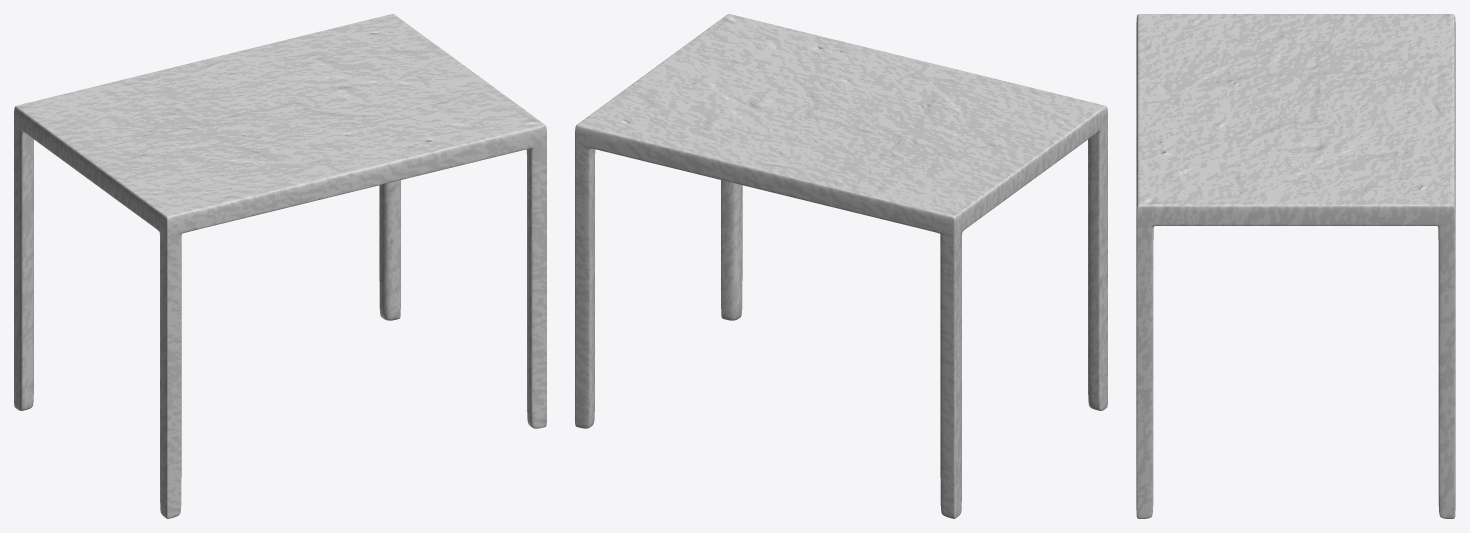
Rendered from wavyTable1.obj.
The picture shows the model from 3 angles, left to right: view 1: azimuth 30°, elevation 25°; view 2: azimuth 150°, elevation 25°; view 3: azimuth 270°, elevation 25°; orthographic projection. The views are drawn at different scales.
Parts seen in each view (by area): view 1: TableSubDivided_Cube.007; view 2: TableSubDivided_Cube.007; view 3: TableSubDivided_Cube.007.
Boxes of the visible parts, <box> form: TableSubDivided_Cube.007: <box>14,14,546,518</box>; TableSubDivided_Cube.007: <box>575,14,1107,518</box>; TableSubDivided_Cube.007: <box>1136,14,1455,518</box>.
Bounding box in the file's own units: 1 × 0.7596 × 0.7.
